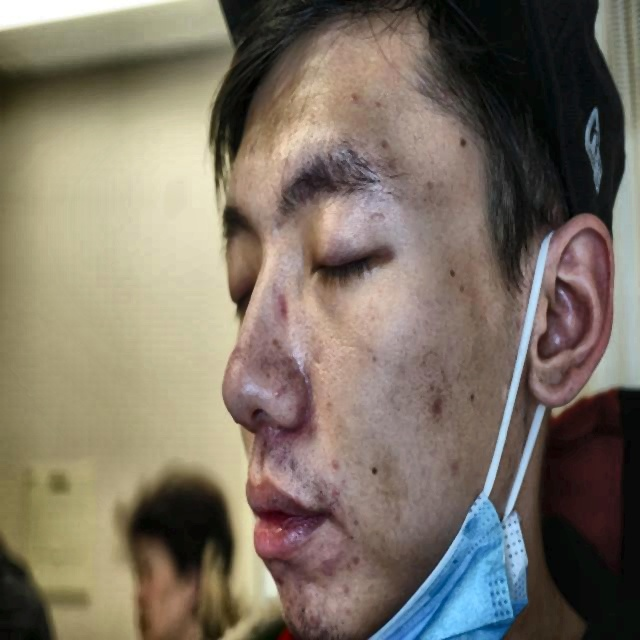pustule: (296, 594, 314, 625), (278, 294, 294, 326), (426, 391, 447, 413), (312, 607, 326, 635), (324, 553, 336, 581), (286, 590, 298, 618), (340, 599, 355, 620)
